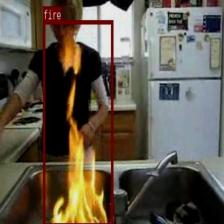fire: (42, 19, 112, 224)
